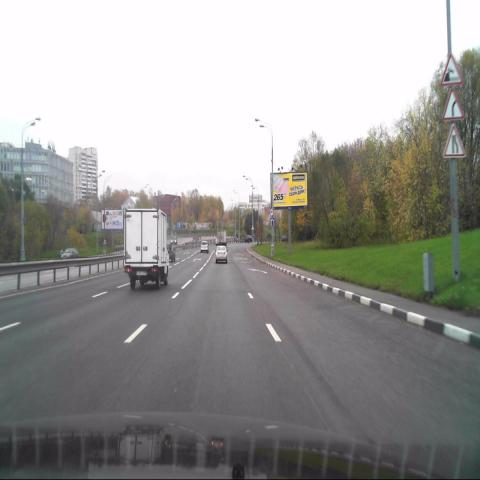1_10: (442, 52, 462, 84)
